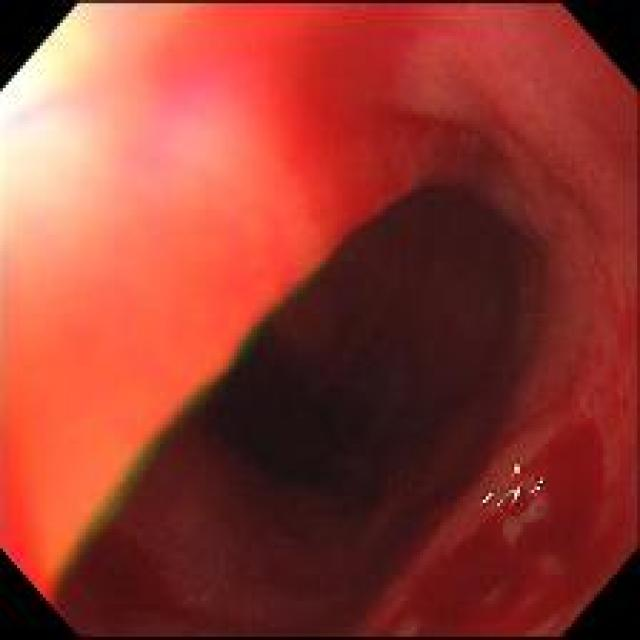blood: (380, 419, 620, 636)
color misalignment: (51, 189, 422, 605), (474, 464, 547, 521)
contrast: (197, 311, 442, 543)
saturation: (2, 5, 157, 251)
specularity: (483, 494, 493, 504), (514, 488, 520, 500), (498, 500, 504, 508), (515, 465, 520, 473), (539, 479, 544, 485), (536, 486, 540, 492)
